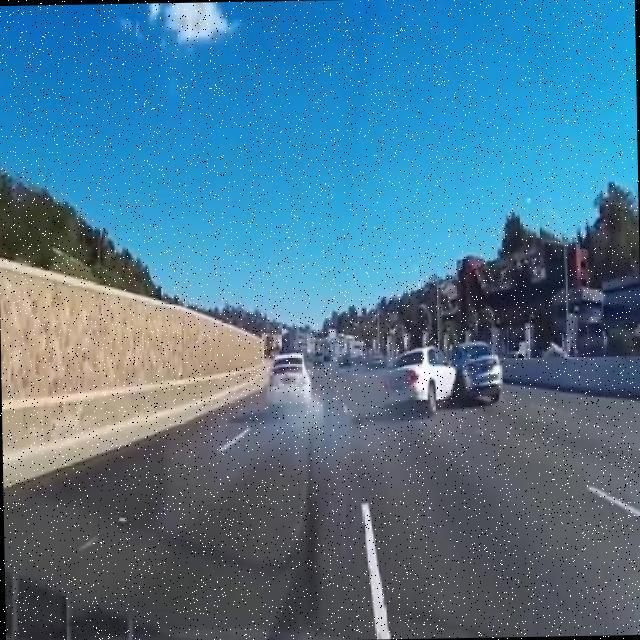accident: (378, 338, 504, 417)
